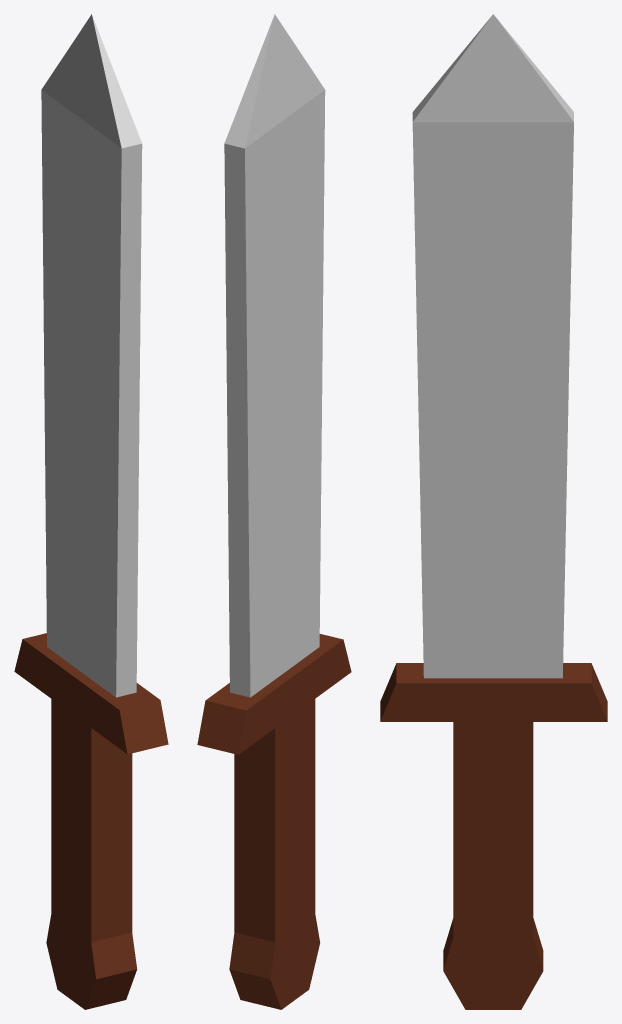
File: Sword.fbx
3 views of the same model, side by side, from view 1: azimuth 30°, elevation 25°; view 2: azimuth 150°, elevation 25°; view 3: azimuth 270°, elevation 25° (orthographic).
Visible parts, largest first — view 1: Cube; view 2: Cube; view 3: Cube.
Boxes of the visible parts, bbox=[...] form: Cube: bbox=[14, 14, 168, 1009]; Cube: bbox=[197, 14, 351, 1009]; Cube: bbox=[380, 14, 607, 1009].
Bounding box in the file's own units: 5.63 × 129 × 26.9.
